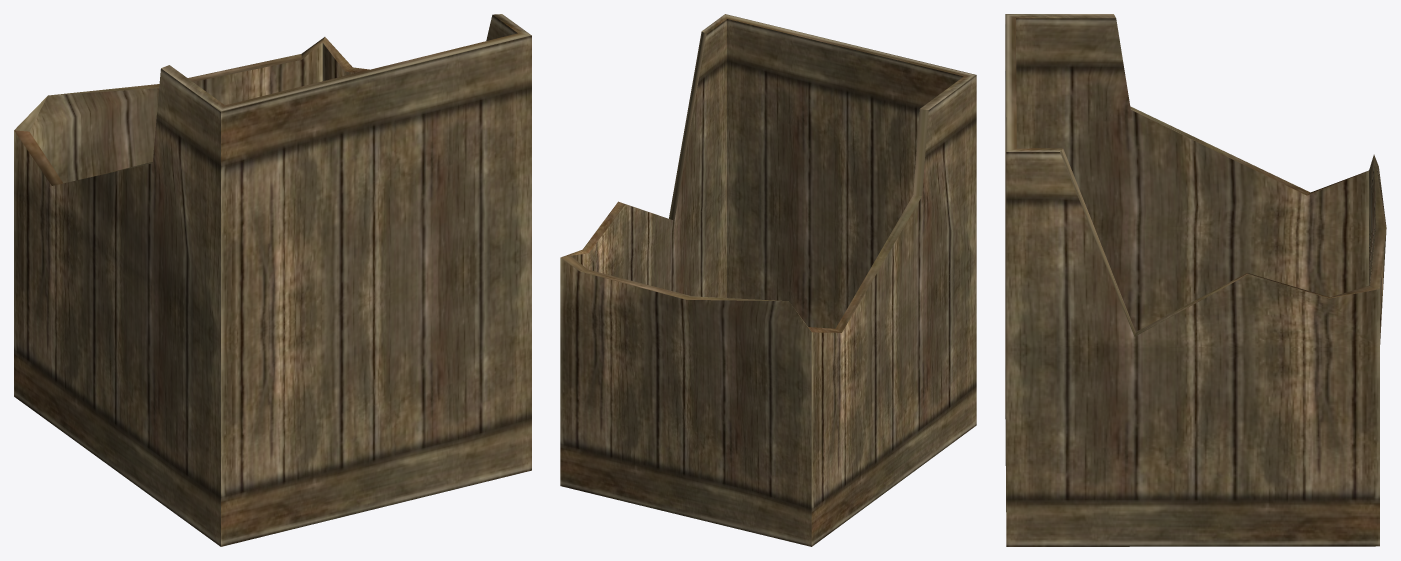
The model's file is pir_m_prp_cnt_crate_ravensCove.fbx.
3 renders of one model, left to right at view 1: azimuth 30°, elevation 25°; view 2: azimuth 150°, elevation 25°; view 3: azimuth 270°, elevation 25°, orthographic. The views are drawn at different scales.
Parts seen in each view (by area): view 1: lod_high; view 2: lod_high; view 3: lod_high.
Part boxes in pixels (x1=…): lod_high: x1=14, y1=14, x2=531, y2=546; lod_high: x1=560, y1=14, x2=976, y2=546; lod_high: x1=1005, y1=14, x2=1386, y2=546.
Bounding box in the file's own units: 330 × 439 × 384.
Materials: 1 (1 with a texture image).
